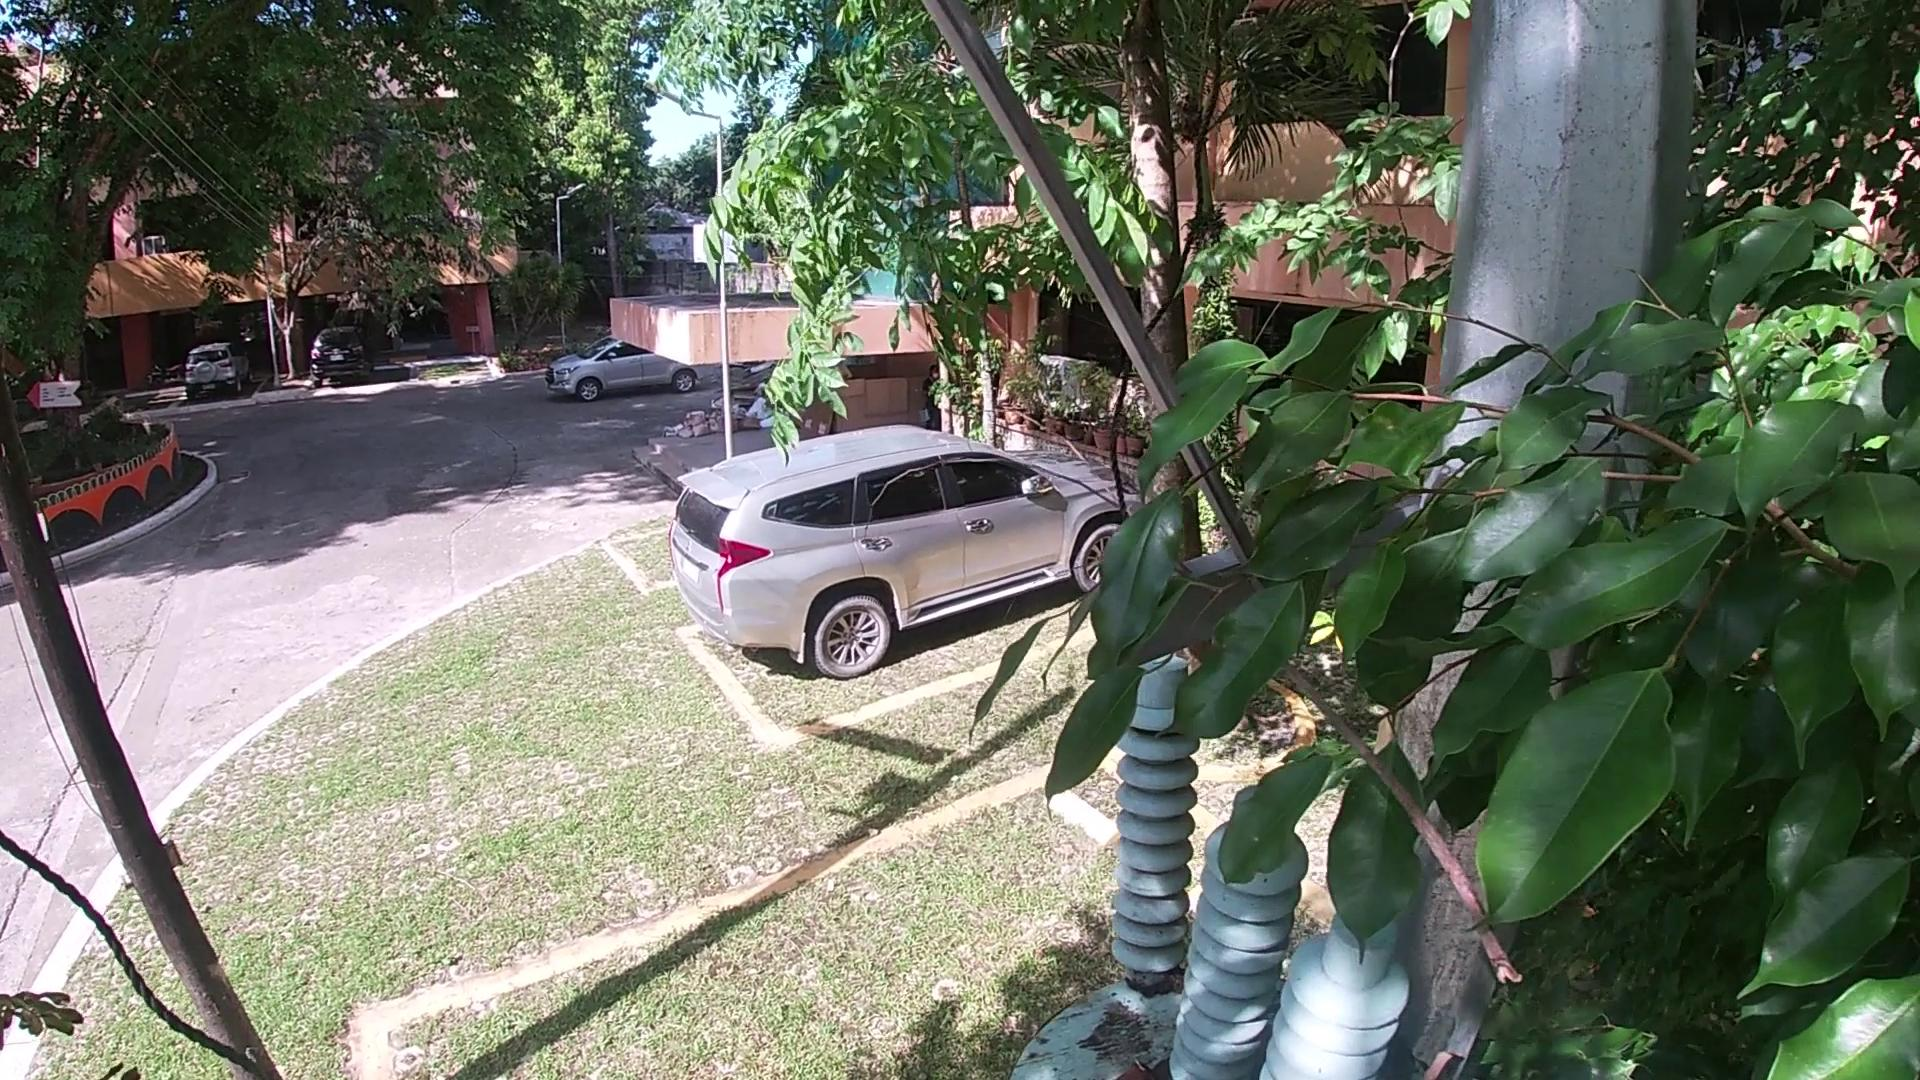mahogany fruit: (1096, 1042, 1163, 1080)
tree branch: (927, 401, 1552, 1009), (1395, 1040, 1474, 1080)
